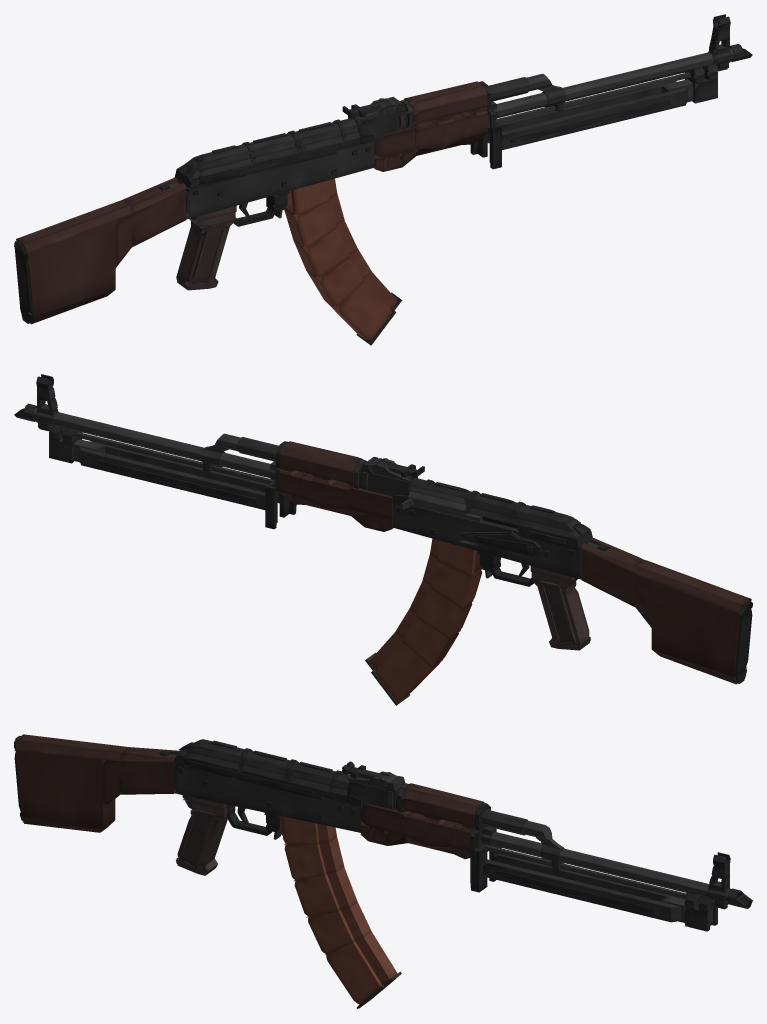
The model's file is rpk74.obj.
The picture shows the model from 3 angles, top to bottom: view 1: azimuth 30°, elevation 25°; view 2: azimuth 150°, elevation 25°; view 3: azimuth 330°, elevation 25°; orthographic projection.
Visible parts, largest first — view 1: gunModel1, gunModel0, gunModel172, gunModel2, ammoModel11, gunModel185, gunModel89, gunModel171, ammoModel7, ammoModel1, ammoModel9, gunModel15 (+17 smaller); view 2: gunModel1, gunModel0, gunModel171, gunModel2, ammoModel11, gunModel185, gunModel89, gunModel172, ammoModel7, ammoModel1, ammoModel9, gunModel15 (+16 smaller); view 3: gunModel1, gunModel0, gunModel172, ammoModel11, gunModel185, gunModel2, gunModel89, gunModel171, ammoModel7, ammoModel9, gunModel15, gunModel114 (+24 smaller).
Part boxes in pixels (x1,y1,x2,y2): gunModel1: (23,220,115,316); gunModel0: (174,141,374,219); gunModel172: (502,87,687,150); gunModel2: (16,200,131,253); ammoModel11: (324,281,392,342); gunModel185: (131,182,186,247); gunModel89: (486,47,734,111); gunModel171: (487,81,676,143); ammoModel7: (294,228,350,278); ammoModel1: (284,201,336,249); ammoModel9: (307,257,364,308); gunModel15: (403,81,486,112); gunModel1: (651,580,739,676); gunModel0: (392,501,589,579); gunModel171: (79,447,265,509); gunModel2: (636,560,751,613); ammoModel11: (374,641,440,702); gunModel185: (581,542,635,607); gunModel89: (33,407,270,471); gunModel172: (89,441,279,503); ammoModel7: (416,588,472,639); ammoModel1: (430,561,482,609); ammoModel9: (402,618,458,667); gunModel15: (280,441,363,472); gunModel1: (15,750,115,828); gunModel0: (173,764,362,832); gunModel172: (483,859,680,922); ammoModel11: (326,941,382,1004); gunModel185: (119,760,175,794); gunModel2: (15,734,128,761); gunModel89: (481,832,731,896); gunModel171: (494,853,685,901); ammoModel7: (294,874,340,917); ammoModel9: (308,910,354,954); gunModel15: (401,783,484,814); gunModel114: (485,845,715,906).
Bounding box in the file's own units: 32.17 × 9.95 × 1.95.
